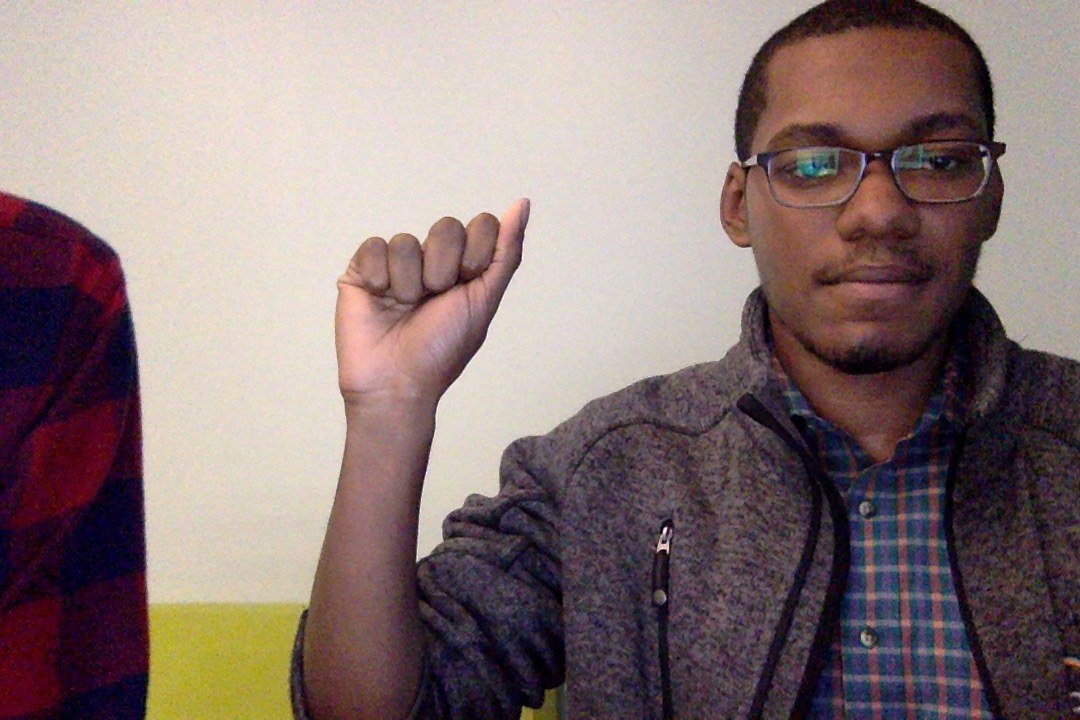a: (323, 195, 543, 396)
